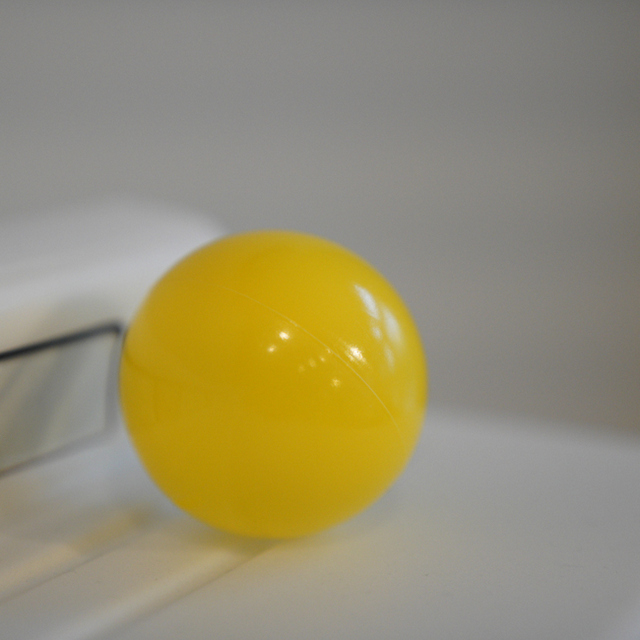Ball: (119, 228, 425, 542)
